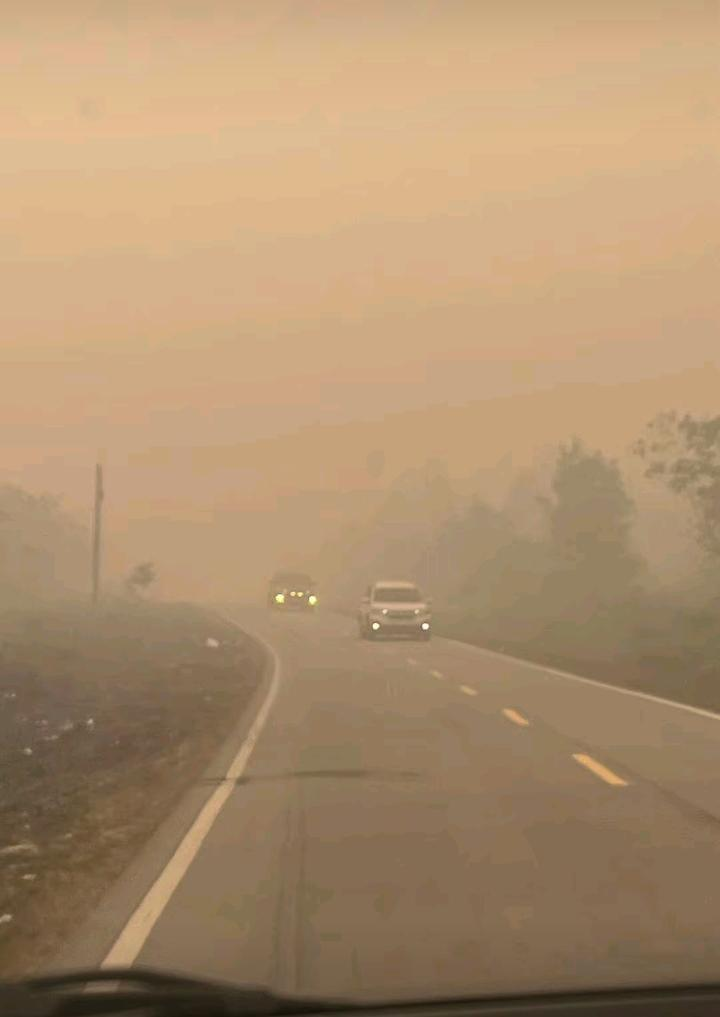Deteksi-Objek-Citra-Berasap: (0, 0, 720, 649)
Kendaraan: (358, 579, 432, 642), (267, 573, 320, 614)
Vegetasi: (535, 435, 642, 617), (634, 407, 720, 606), (120, 558, 162, 610)
